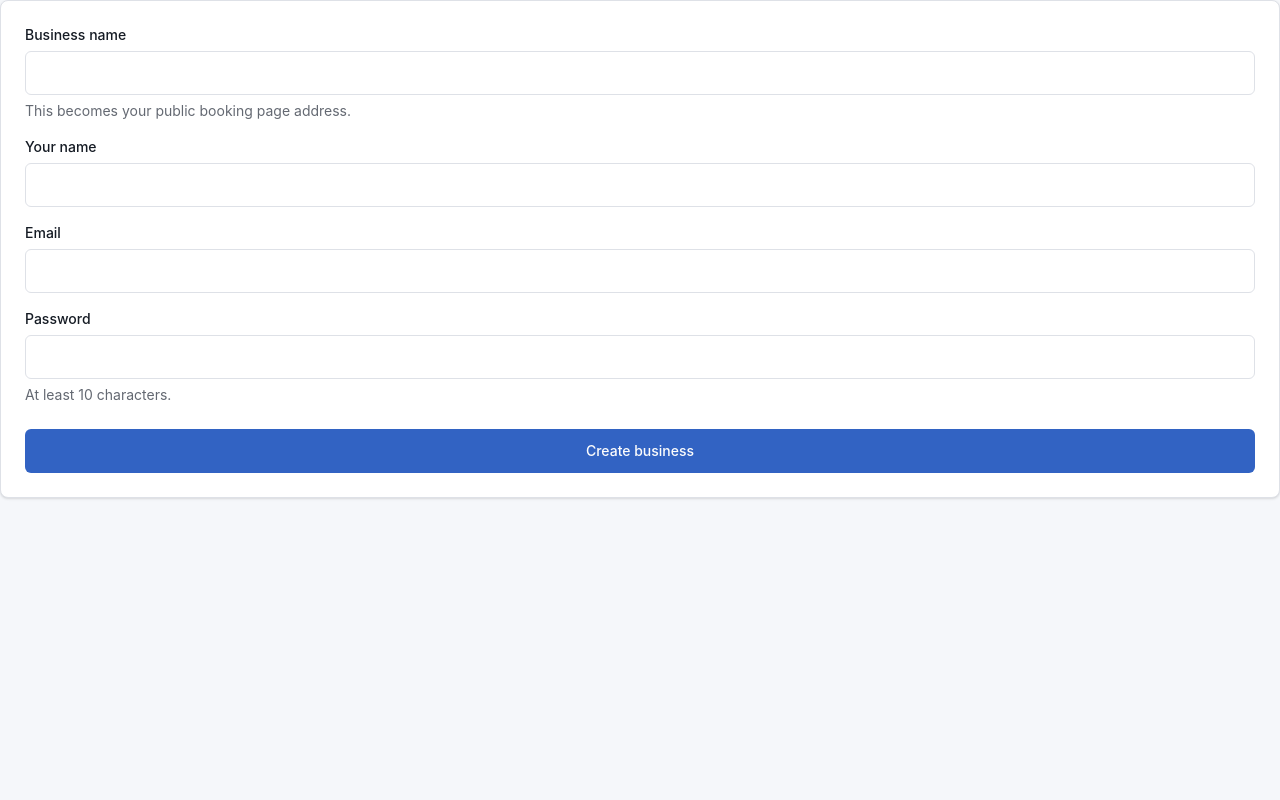
Test: RegisterForm, refused › puts each fielded message against the field it names
Type "Salon Aria" into the field labelled "Business name" at coordinates (640, 73), box [25,51,1255,95]
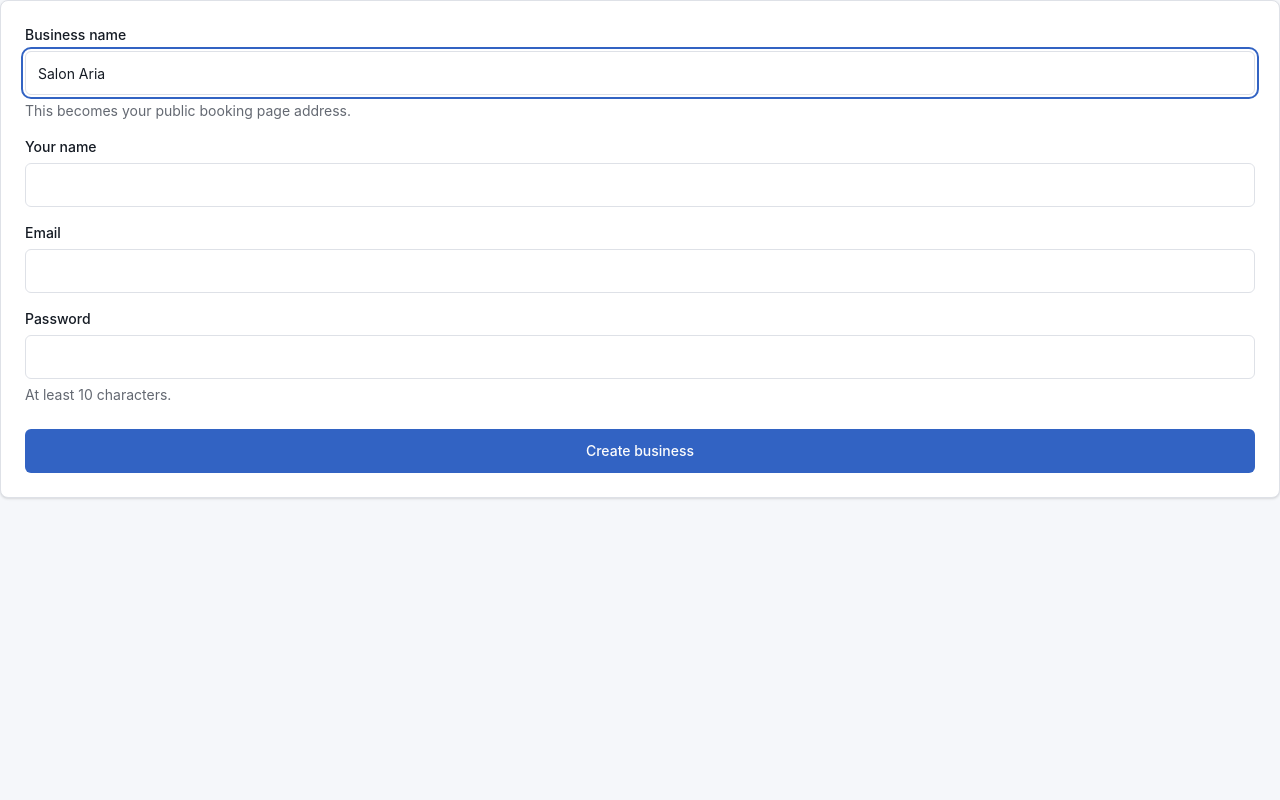
Type "Nino Beridze" into the field labelled "Your name" at coordinates (640, 185), box [25,163,1255,207]
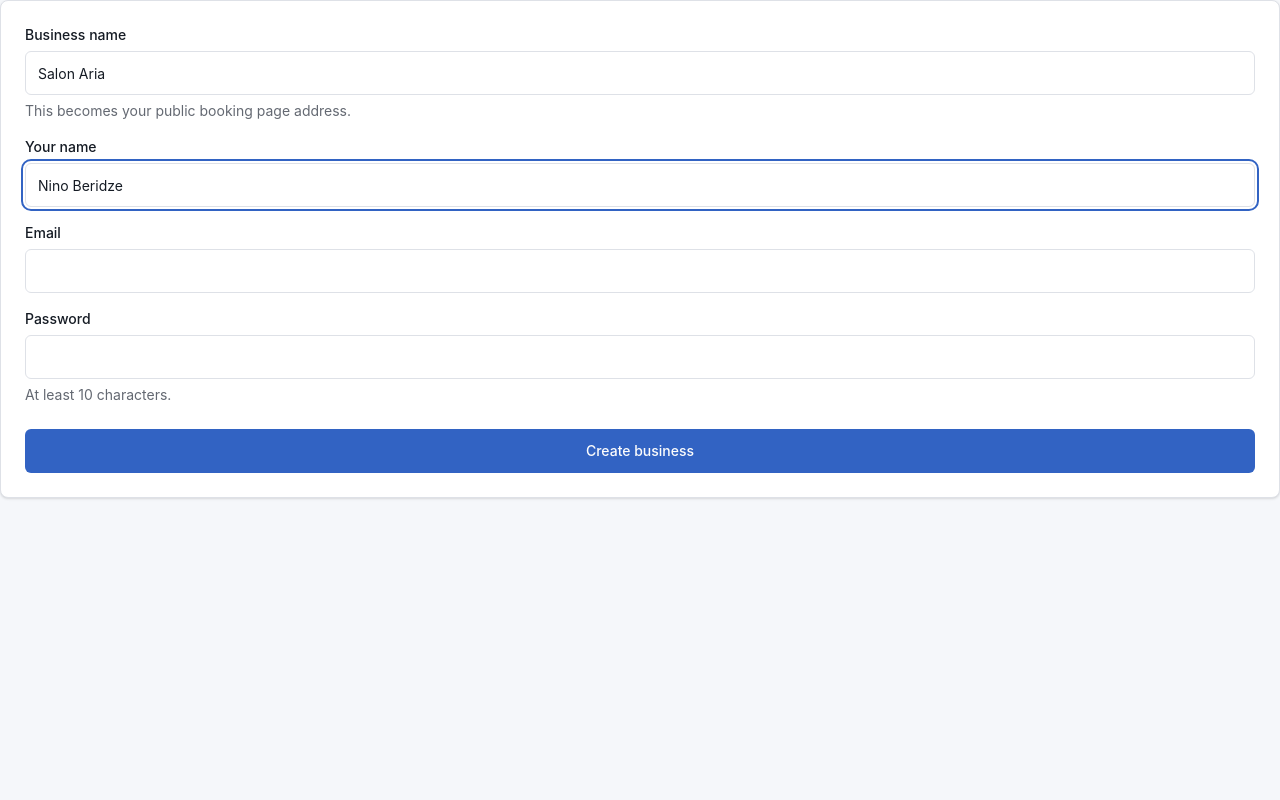
Type "owner@example.com" into the field labelled "Email" at coordinates (640, 271), box [25,249,1255,293]
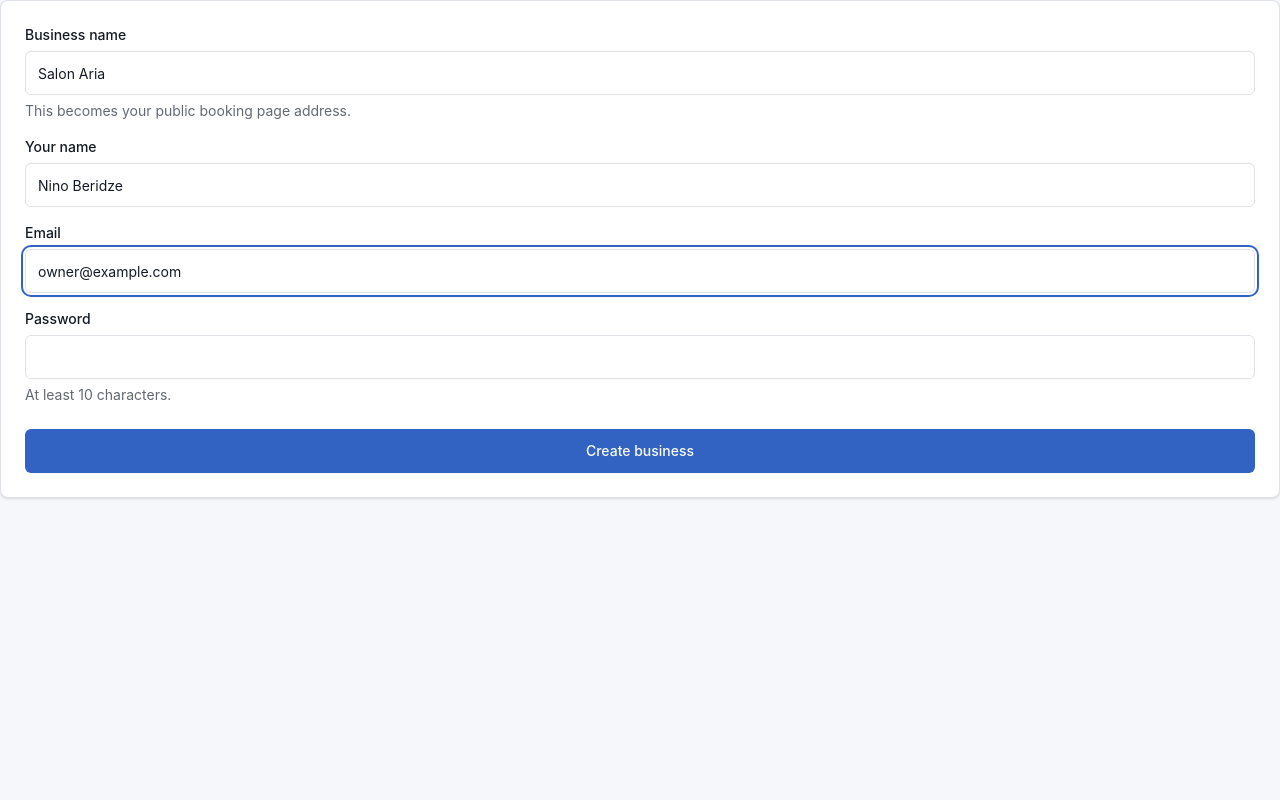
Type "long-enough-password" into the password field labelled "Password" at coordinates (640, 357), box [25,335,1255,379]
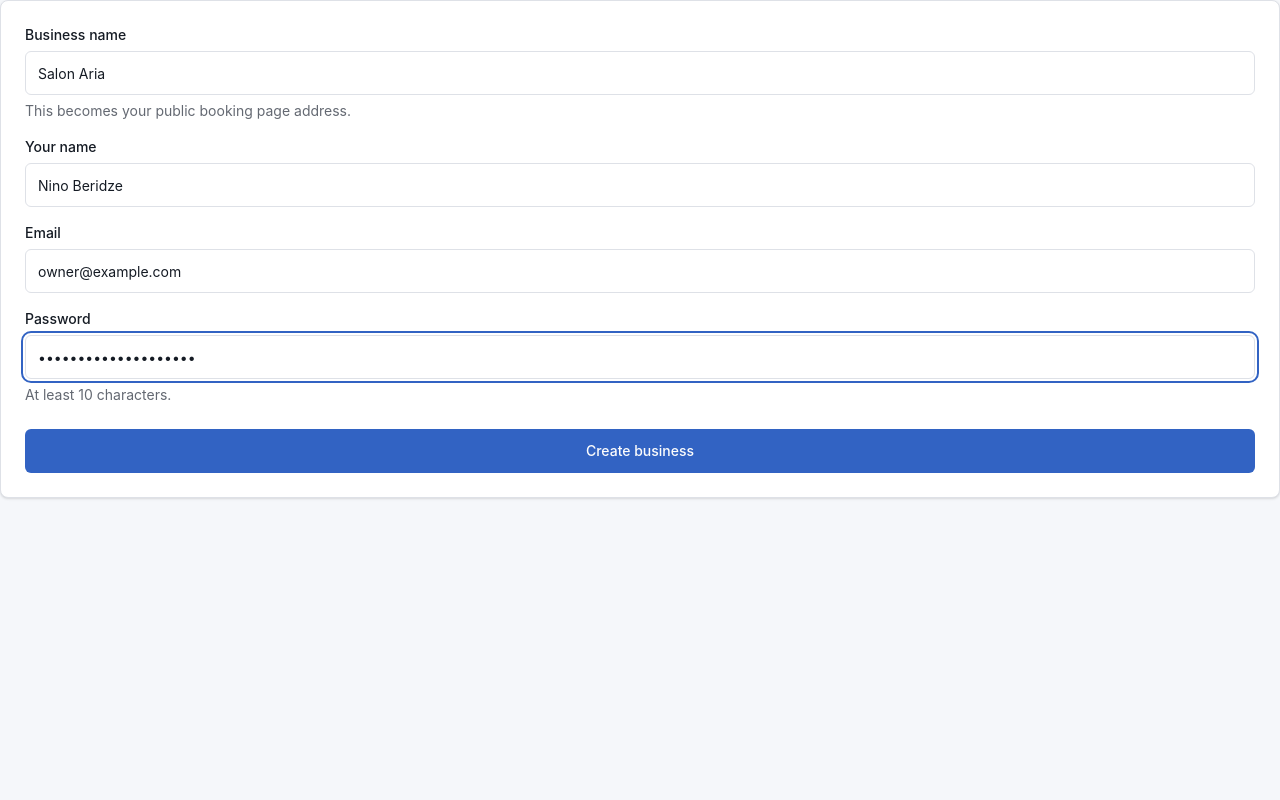
Click the button "Create business" at coordinates (640, 451), box [25,429,1255,473]
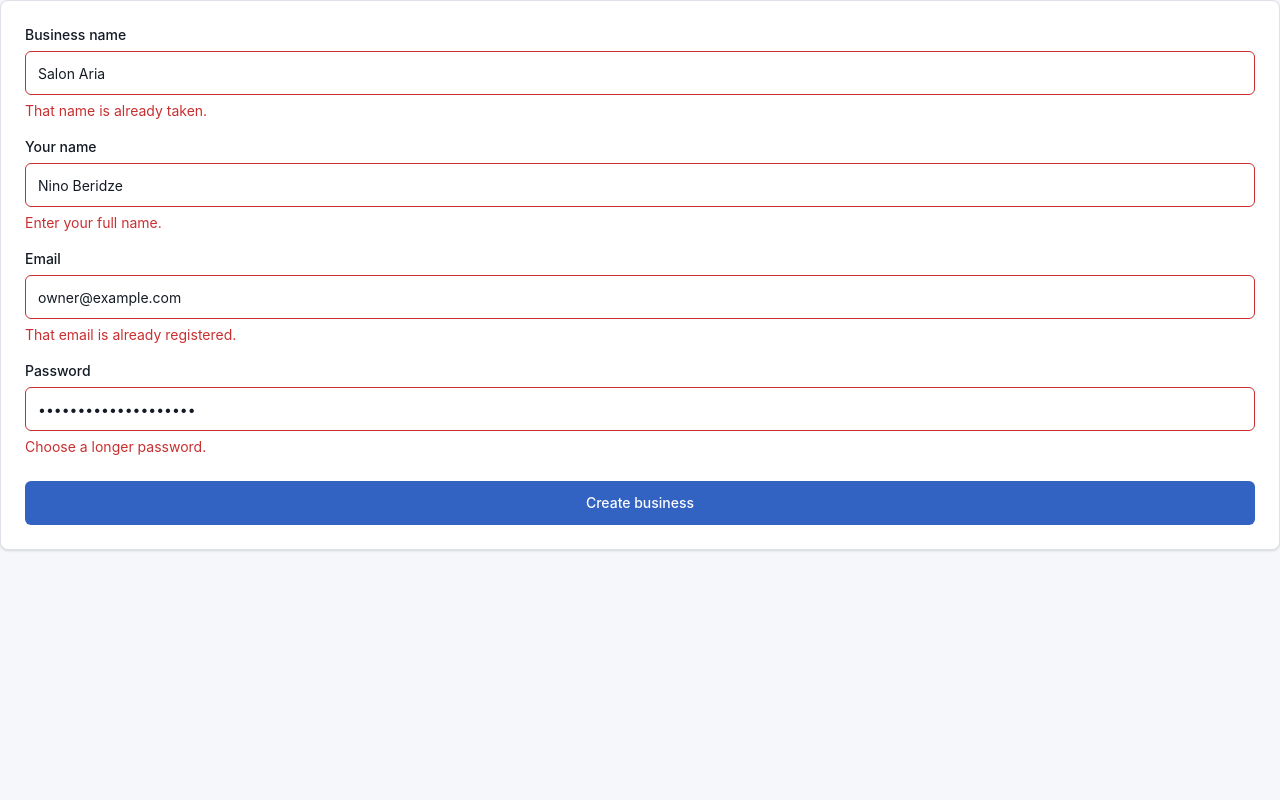
Expected: the text "That email is already registered." is shown, [25,326,236,343]
